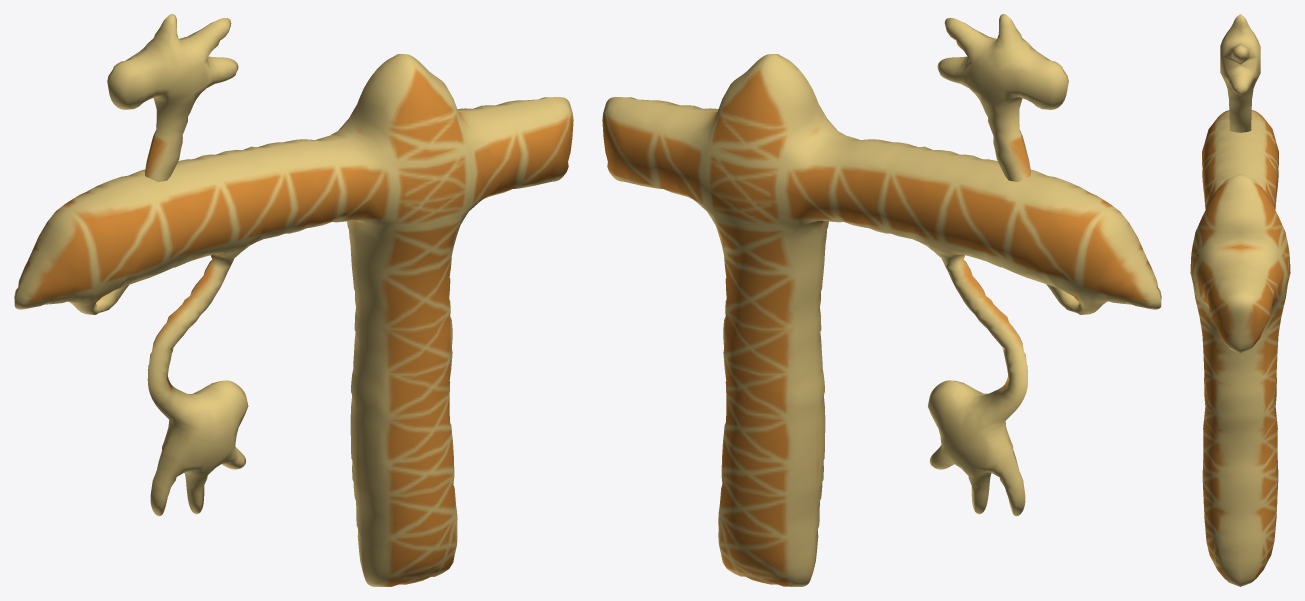
The model's file is Zone3monu.glb.
3 views of the same model, side by side, from view 1: azimuth 30°, elevation 25°; view 2: azimuth 150°, elevation 25°; view 3: azimuth 270°, elevation 25° (orthographic). The views are drawn at different scales.
Size of the model in its own units: 2.6 by 2.79 by 0.5331.
1 material, 1 textured.
